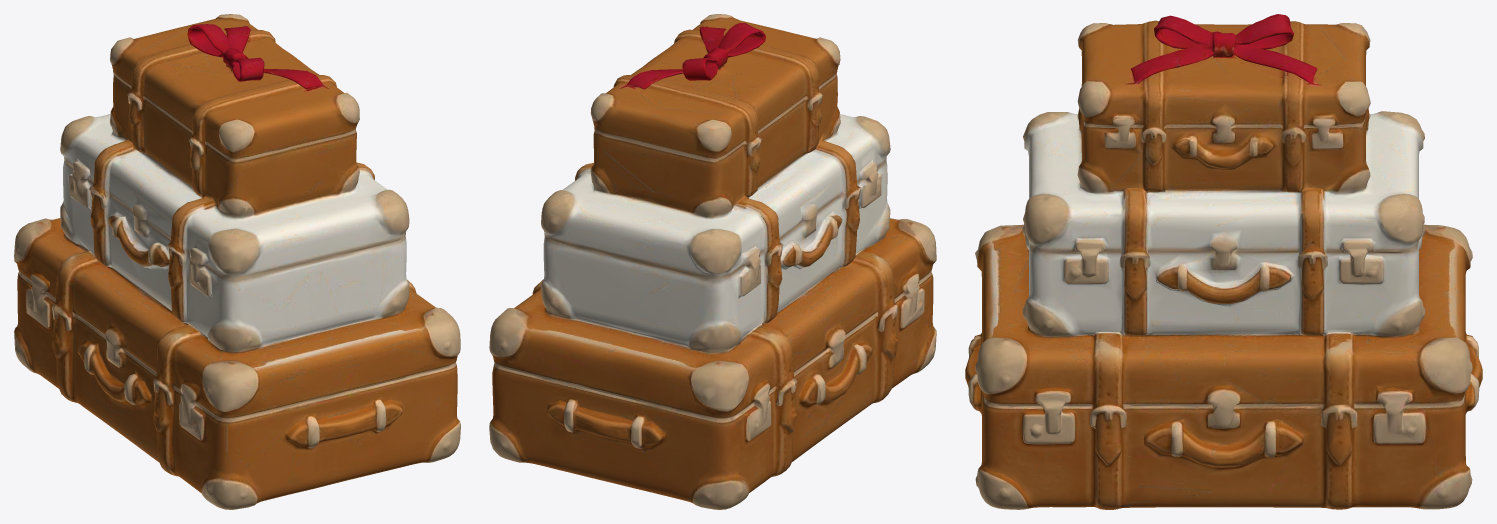
The model's file is trunks.glb.
The picture shows the model from 3 angles, left to right: view 1: azimuth 30°, elevation 25°; view 2: azimuth 150°, elevation 25°; view 3: azimuth 270°, elevation 25°; orthographic projection. The views are drawn at different scales.
Size of the model in its own units: 1.36 by 1.83 by 2.
1 material, 1 textured.
